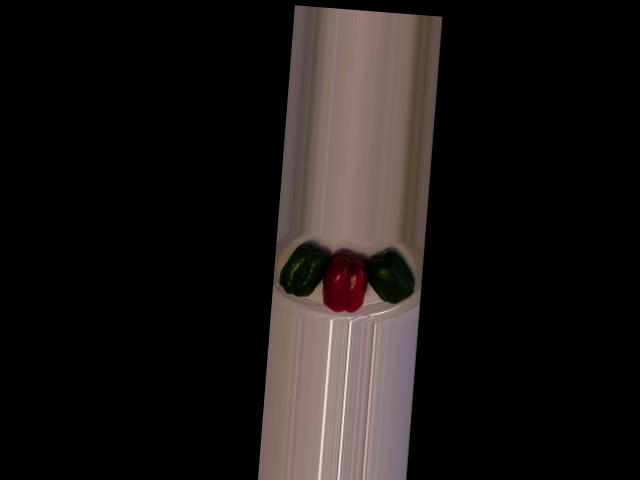bell_pepper: (363, 244, 420, 312)
